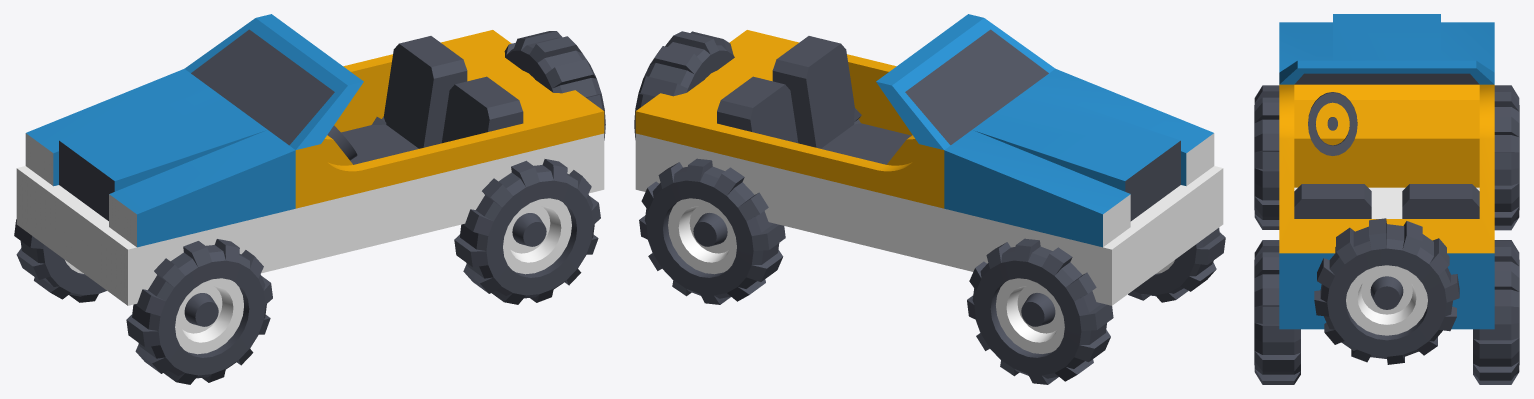
Rendered from Jeep.fbx.
The picture shows the model from 3 angles, left to right: view 1: azimuth 30°, elevation 25°; view 2: azimuth 150°, elevation 25°; view 3: azimuth 270°, elevation 25°; orthographic projection. The views are drawn at different scales.
Visible parts, largest first — view 1: windshield_sportsTop%_671, hood_luxurious%_672, wheel_dirt_676, wheel_dirt_675, wheel_dirt_677, wheel_dirt_674; view 2: windshield_sportsTop%_671, hood_luxurious%_672, wheel_dirt_674, wheel_dirt_673, wheel_dirt_677, wheel_dirt_676; view 3: windshield_sportsTop%_671, wheel_dirt_677, hood_luxurious%_672, wheel_dirt_673, wheel_dirt_675, wheel_dirt_674, wheel_dirt_676.
Part boxes in pixels (bbox=[...]): windshield_sportsTop%_671: bbox=[184, 14, 604, 264]; hood_luxurious%_672: bbox=[16, 68, 295, 305]; wheel_dirt_676: bbox=[126, 239, 272, 384]; wheel_dirt_675: bbox=[454, 159, 600, 304]; wheel_dirt_677: bbox=[504, 31, 605, 140]; wheel_dirt_674: bbox=[14, 219, 106, 302]; windshield_sportsTop%_671: bbox=[635, 14, 1055, 264]; hood_luxurious%_672: bbox=[944, 68, 1223, 305]; wheel_dirt_674: bbox=[967, 238, 1113, 384]; wheel_dirt_673: bbox=[639, 158, 785, 304]; wheel_dirt_677: bbox=[634, 31, 734, 139]; wheel_dirt_676: bbox=[1128, 228, 1225, 302]; windshield_sportsTop%_671: bbox=[1279, 60, 1494, 329]; wheel_dirt_677: bbox=[1314, 218, 1459, 364]; hood_luxurious%_672: bbox=[1279, 14, 1494, 72]; wheel_dirt_673: bbox=[1473, 240, 1519, 384]; wheel_dirt_675: bbox=[1254, 240, 1300, 384]; wheel_dirt_674: bbox=[1494, 85, 1519, 230]; wheel_dirt_676: bbox=[1254, 85, 1279, 229].
Bounding box in the file's own units: 26.07 × 12.18 × 12.31.
